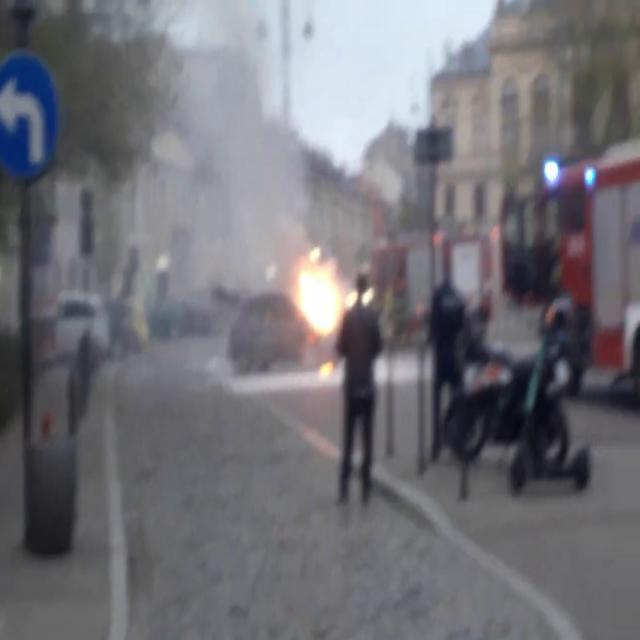Fire: (292, 246, 358, 348)
Smoke: (94, 1, 320, 295)
